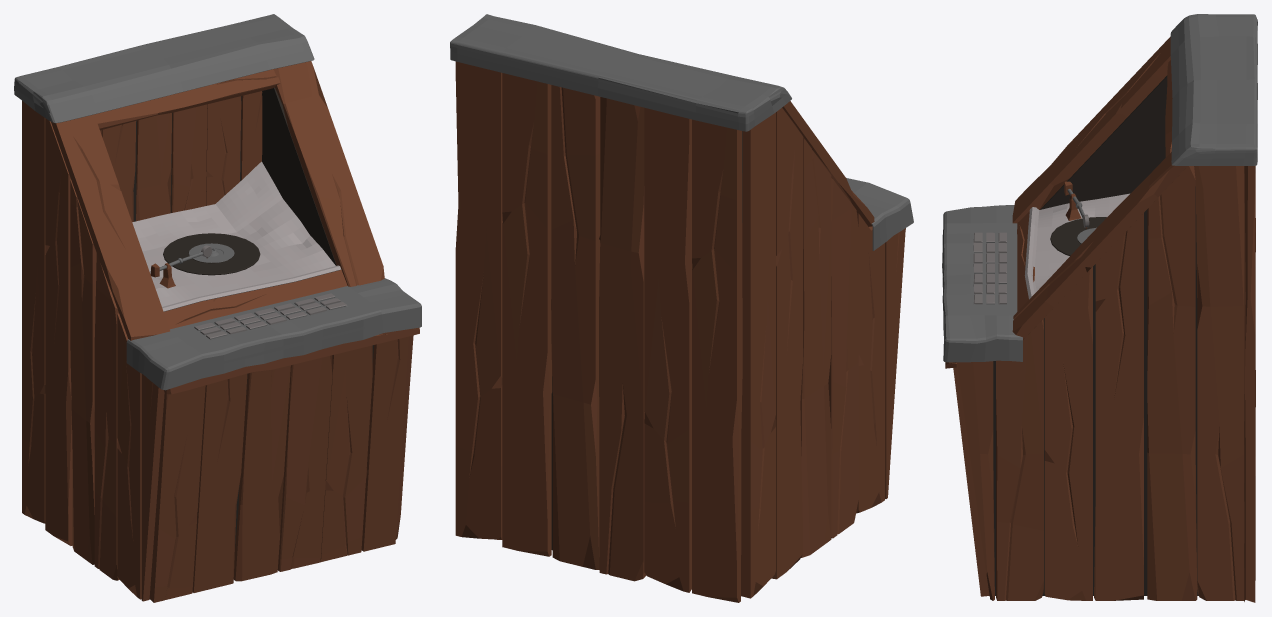
The model's file is jukebox2.fbx.
3 views of the same model, side by side, from view 1: azimuth 30°, elevation 25°; view 2: azimuth 150°, elevation 25°; view 3: azimuth 270°, elevation 25° (orthographic). The views are drawn at different scales.
Parts seen in each view (by area): view 1: Plane.014; view 2: Plane.014; view 3: Plane.014.
Part boxes in pixels (x1,y1,x2,y2): Plane.014: (14, 14, 421, 602); Plane.014: (450, 14, 913, 602); Plane.014: (942, 14, 1257, 602).
Bounding box in the file's own units: 222 × 354 × 219.
